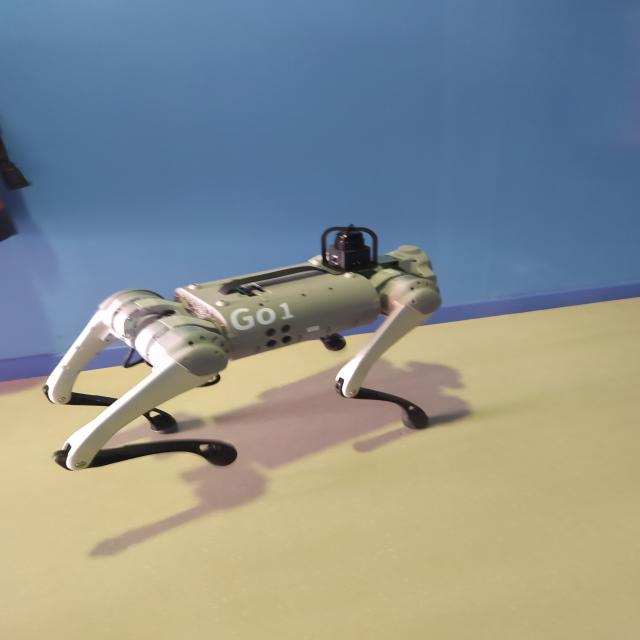unitree-go1-robot: (31, 215, 465, 484)
